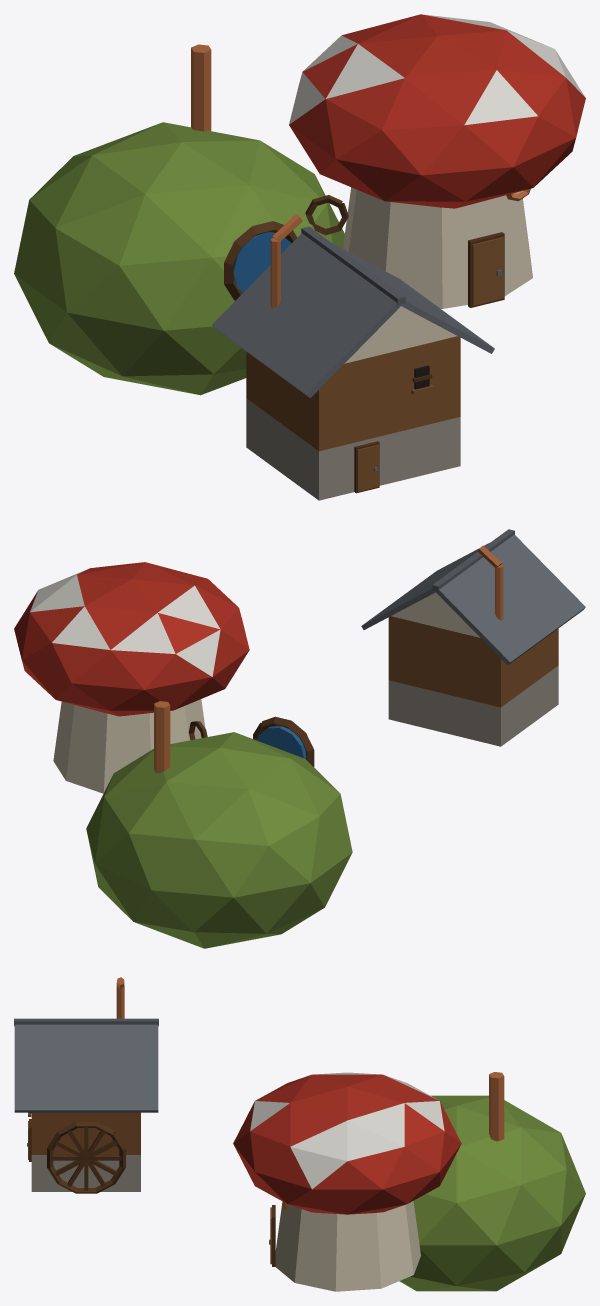
The model's file is gnome_compound.glb.
3 views of the same model, one above another, from view 1: azimuth 30°, elevation 25°; view 2: azimuth 150°, elevation 25°; view 3: azimuth 270°, elevation 25° (orthographic). The views are drawn at different scales.
Visible parts, largest first — view 1: gnome_compound; view 2: gnome_compound; view 3: gnome_compound.
Boxes of the visible parts, x1,y1,x2,y2 form: gnome_compound: [14, 14, 585, 500]; gnome_compound: [14, 529, 585, 948]; gnome_compound: [14, 977, 585, 1291].
Size of the model in its own units: 3.33 by 2.35 by 4.6.
